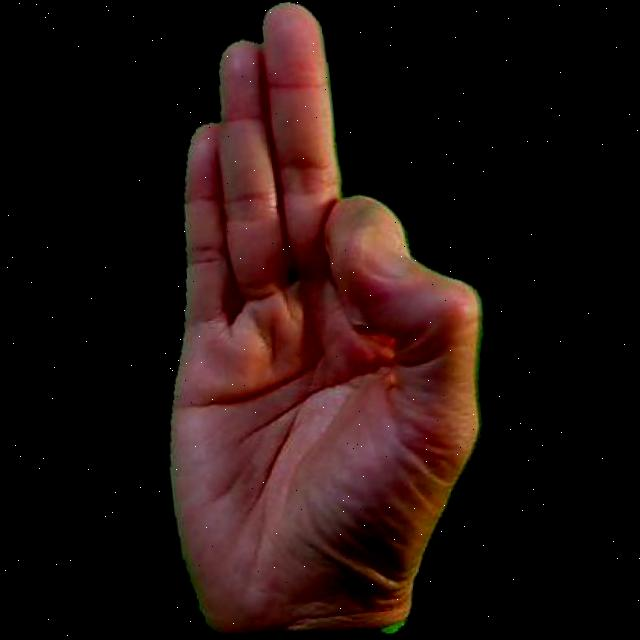f: (115, 0, 517, 640)
